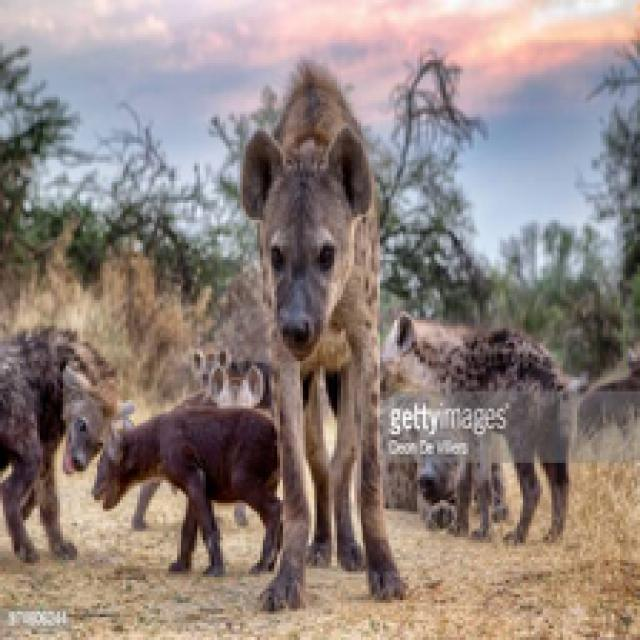hyena: (219, 68, 417, 602), (413, 301, 594, 531), (0, 305, 122, 577), (115, 388, 277, 589)
